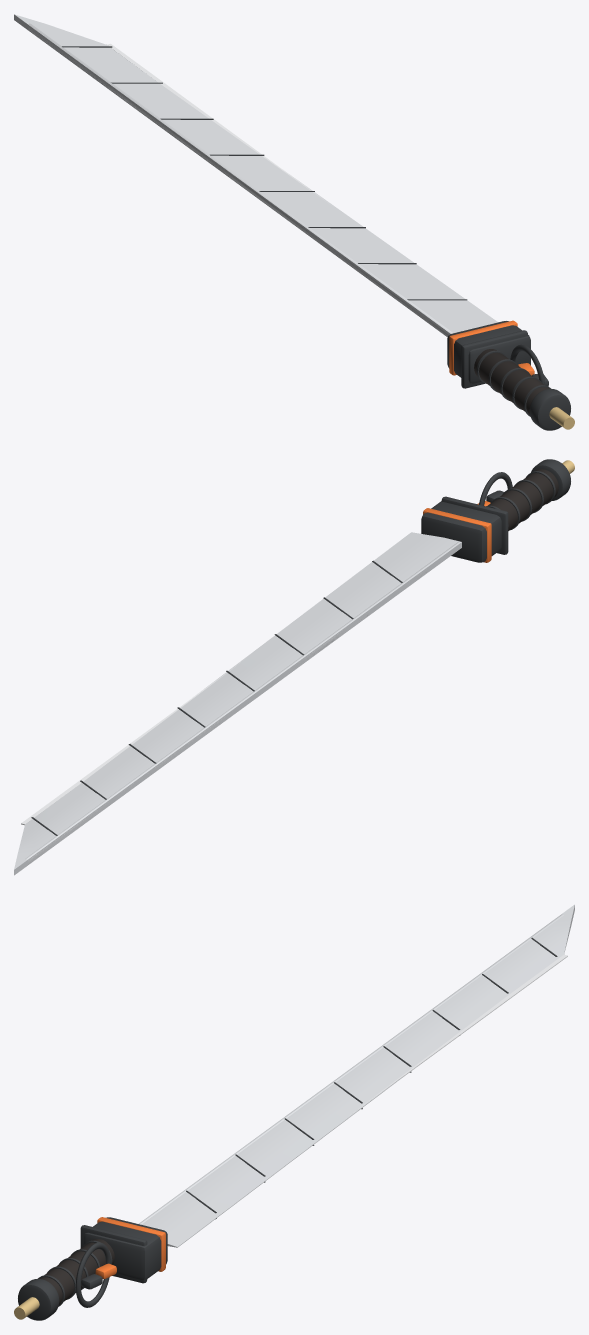
The model's file is SM_ODMSword.fbx.
3 renders of one model, top to bottom at view 1: azimuth 30°, elevation 25°; view 2: azimuth 150°, elevation 25°; view 3: azimuth 330°, elevation 25°, orthographic.
Parts seen in each view (by area): view 1: SM_ODMSword; view 2: SM_ODMSword; view 3: SM_ODMSword.
Part boxes in pixels (left/top/right/bottom): SM_ODMSword: left=14, top=14, right=574, bottom=430; SM_ODMSword: left=14, top=459, right=574, bottom=875; SM_ODMSword: left=14, top=904, right=574, bottom=1320.
Bounding box in the file's own units: 0.09 × 0.071 × 1.18.
